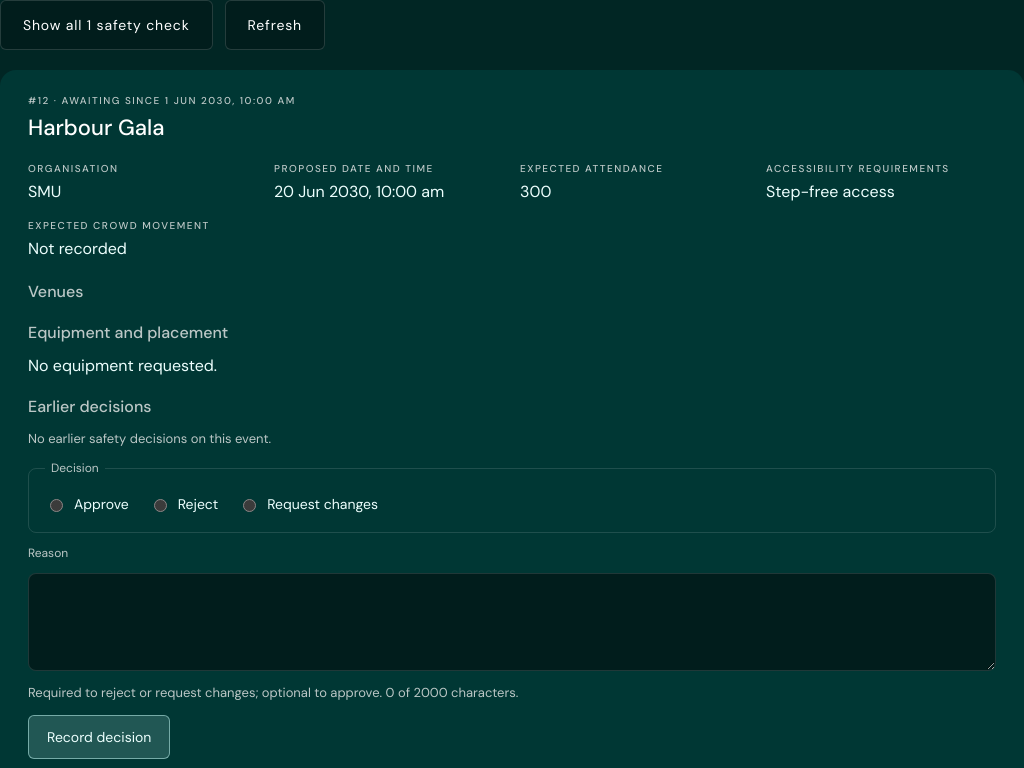
Test: the decision form on each review (SG2-92 AC1–AC5) › [NORMAL] [SG2-92:AC4] deciding the event a desk card opened returns to the list, which says when it is empty
Click the radio button labelled "Reject". click: (160,506)
box: [154,499,167,512]
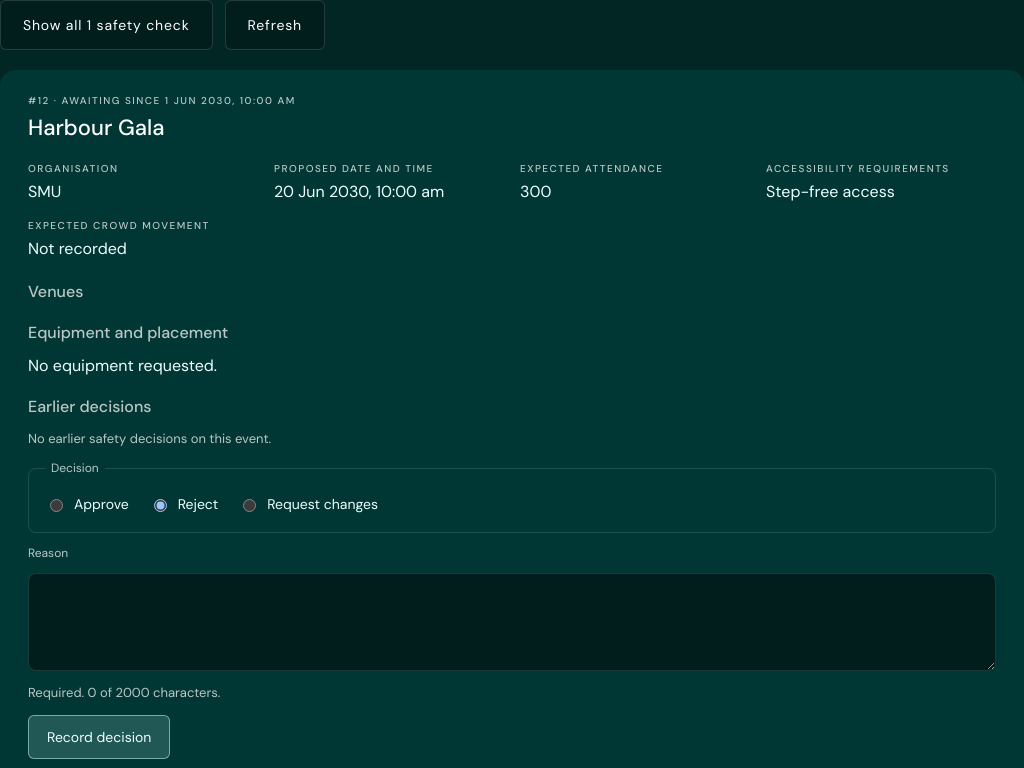
Type "Fire exit blocked" into the text box labelled "Reason". click: (512,622)
box: [28,573,996,671]
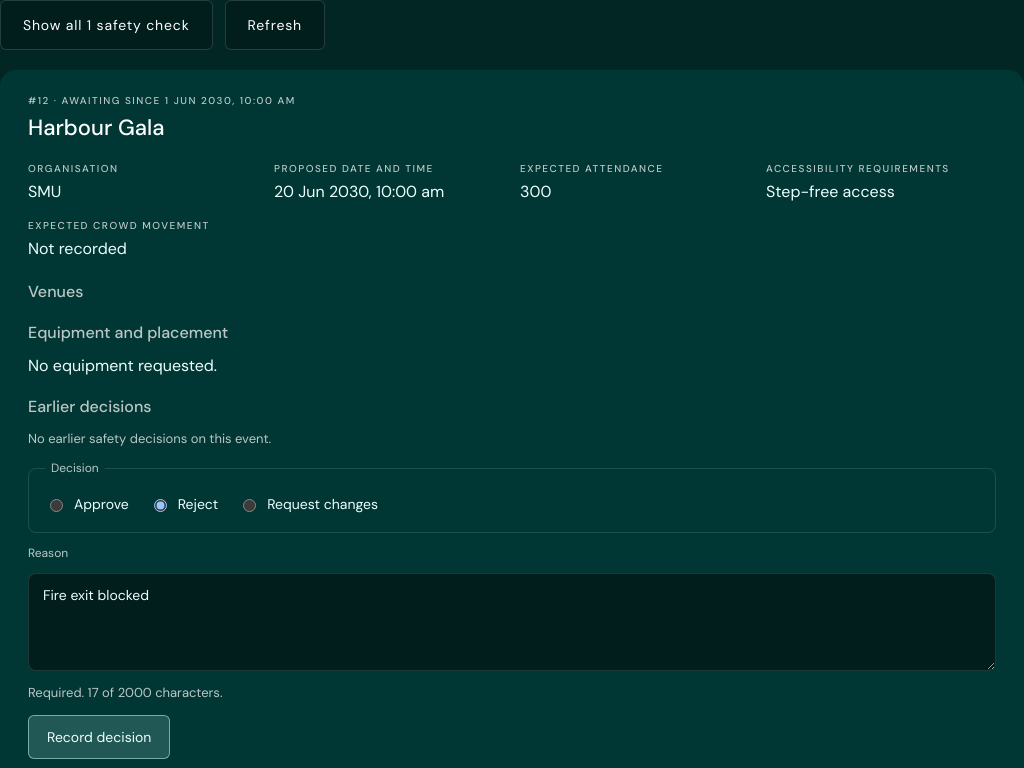
Click the button "Record decision". click: (99,737)
box: [28,715,170,759]
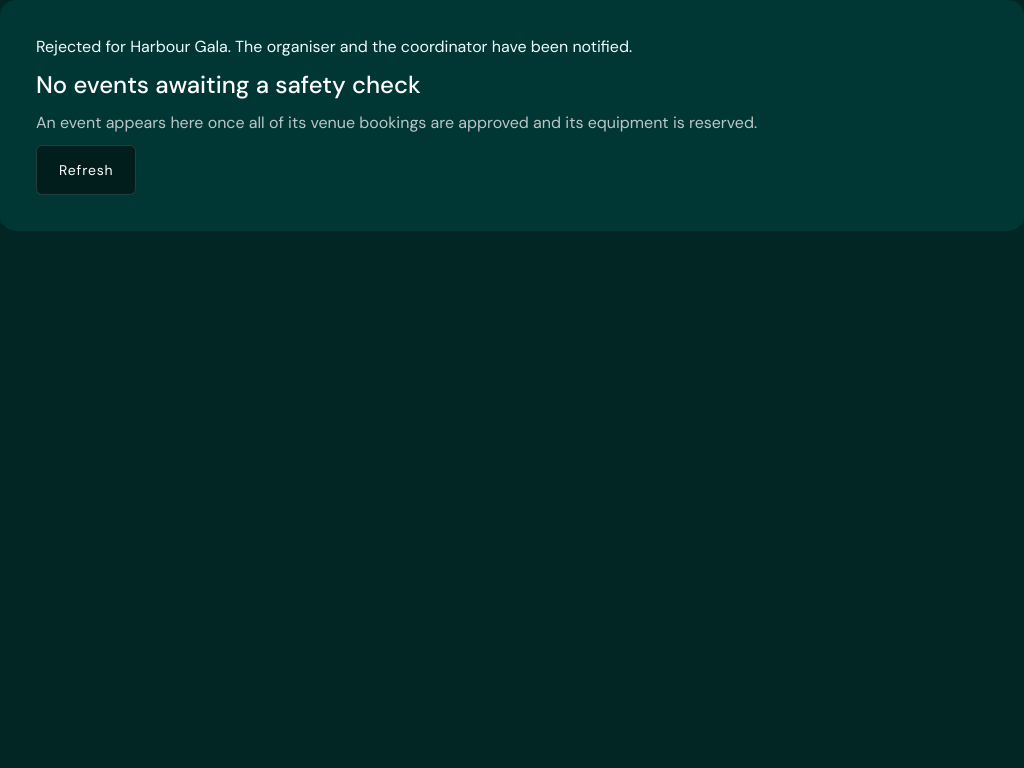
Expected: the heading "No events awaiting a safety check" is shown, [36,69,420,100]
Expected: the message reads "Rejected for Harbour Gala. The organiser and the coordinator have been notified.", [36,36,632,57]
